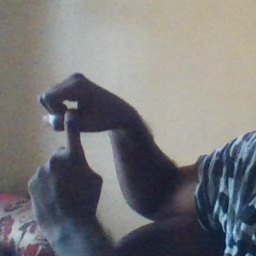Q: (25, 70, 122, 219)
